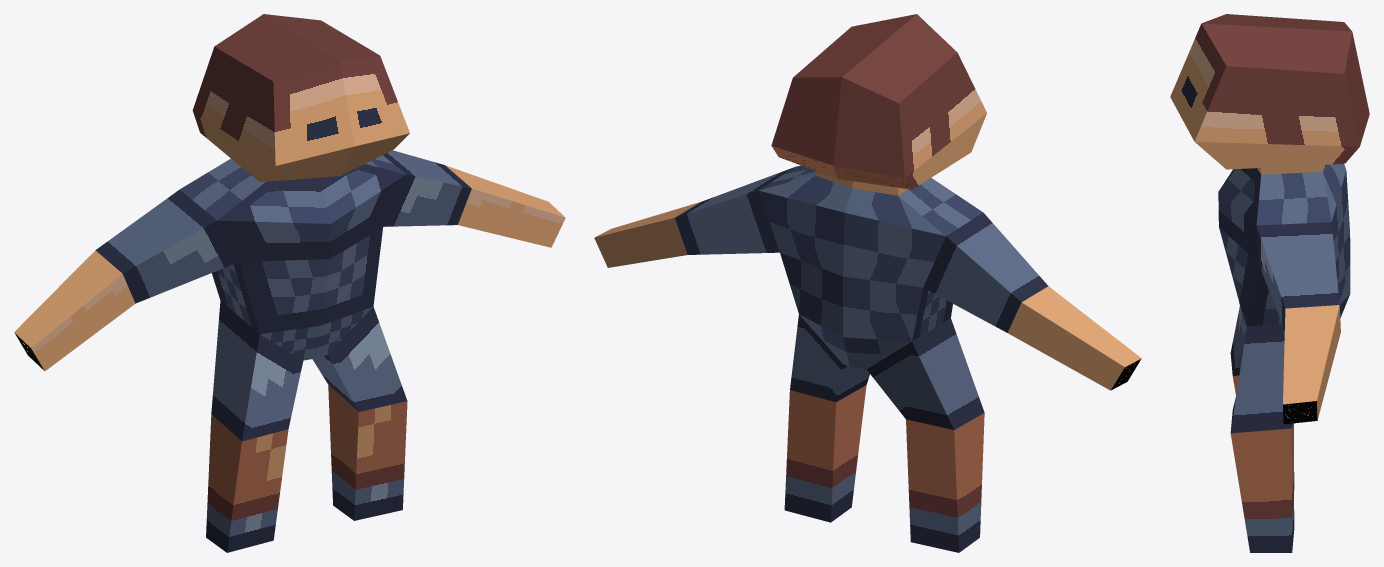
File: Character.glb
The picture shows the model from 3 angles, left to right: view 1: azimuth 30°, elevation 25°; view 2: azimuth 150°, elevation 25°; view 3: azimuth 270°, elevation 25°; orthographic projection.
Visible parts, largest first — view 1: Character; view 2: Character; view 3: Character.
Part boxes in pixels (x1,y1,x2,y2): Character: (14, 14, 565, 552); Character: (594, 14, 1141, 552); Character: (1170, 14, 1369, 552).
Size of the model in its own units: 1.94 by 1.69 by 0.6299.
1 material, 1 textured.
